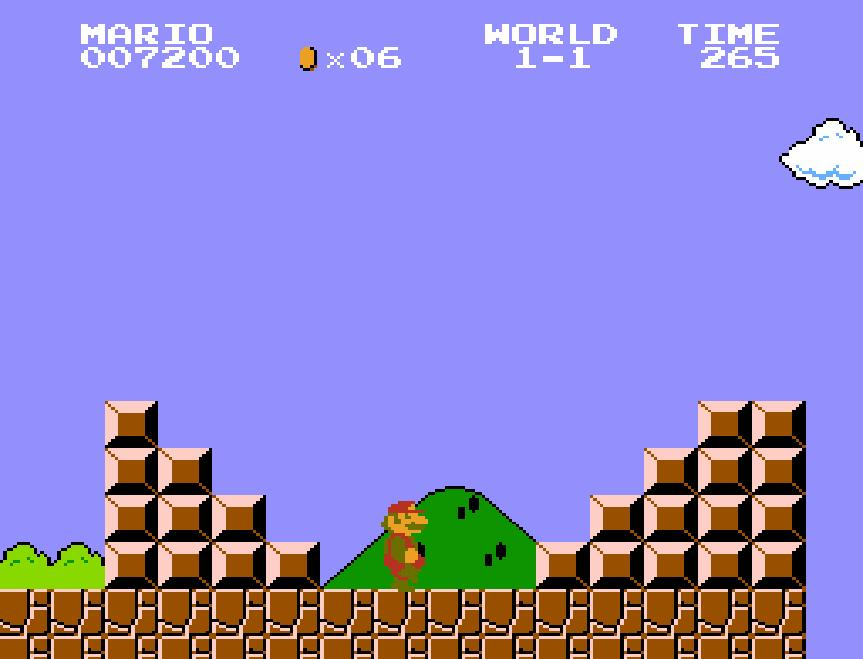big_mario: (376, 499, 434, 597)
